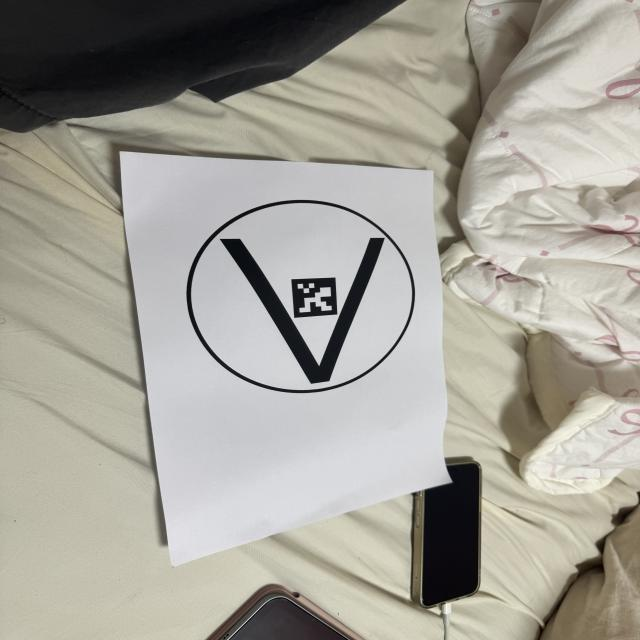vertiport: (182, 189, 426, 397)
